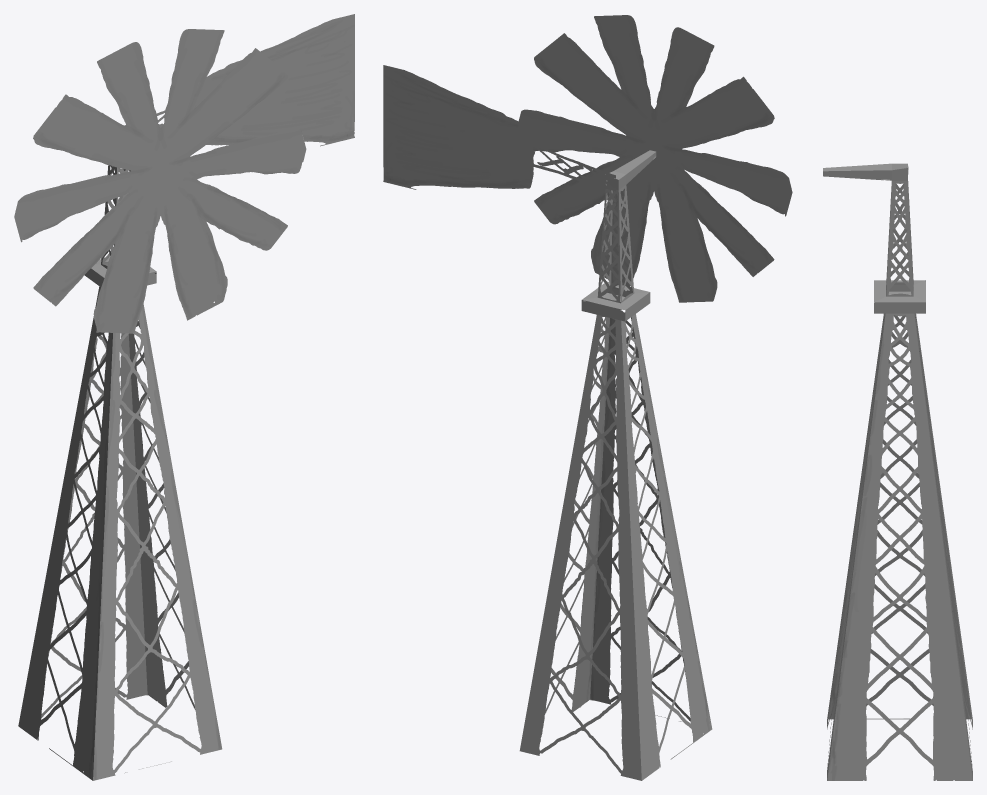
The model's file is Windmill.obj.
3 renders of one model, left to right at view 1: azimuth 30°, elevation 25°; view 2: azimuth 150°, elevation 25°; view 3: azimuth 270°, elevation 25°, orthographic. The views are drawn at different scales.
Visible parts, largest first — view 1: Windmill_Cube.001; view 2: Windmill_Cube.001; view 3: Windmill_Cube.001.
Part boxes in pixels (x1=…): Windmill_Cube.001: x1=14, y1=14, x2=354, y2=780; Windmill_Cube.001: x1=383, y1=15, x2=792, y2=780; Windmill_Cube.001: x1=823, y1=163, x2=972, y2=780.
Bounding box in the file's own units: 2.64 × 4.82 × 0.9188.
